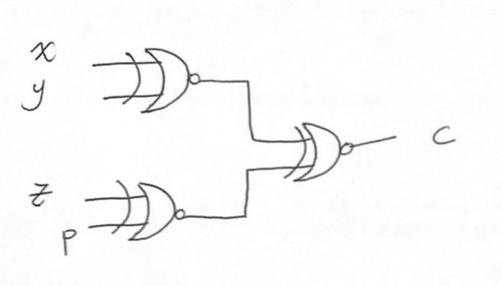XNOR: (107, 167, 189, 252), (116, 44, 202, 118), (284, 116, 362, 195)
